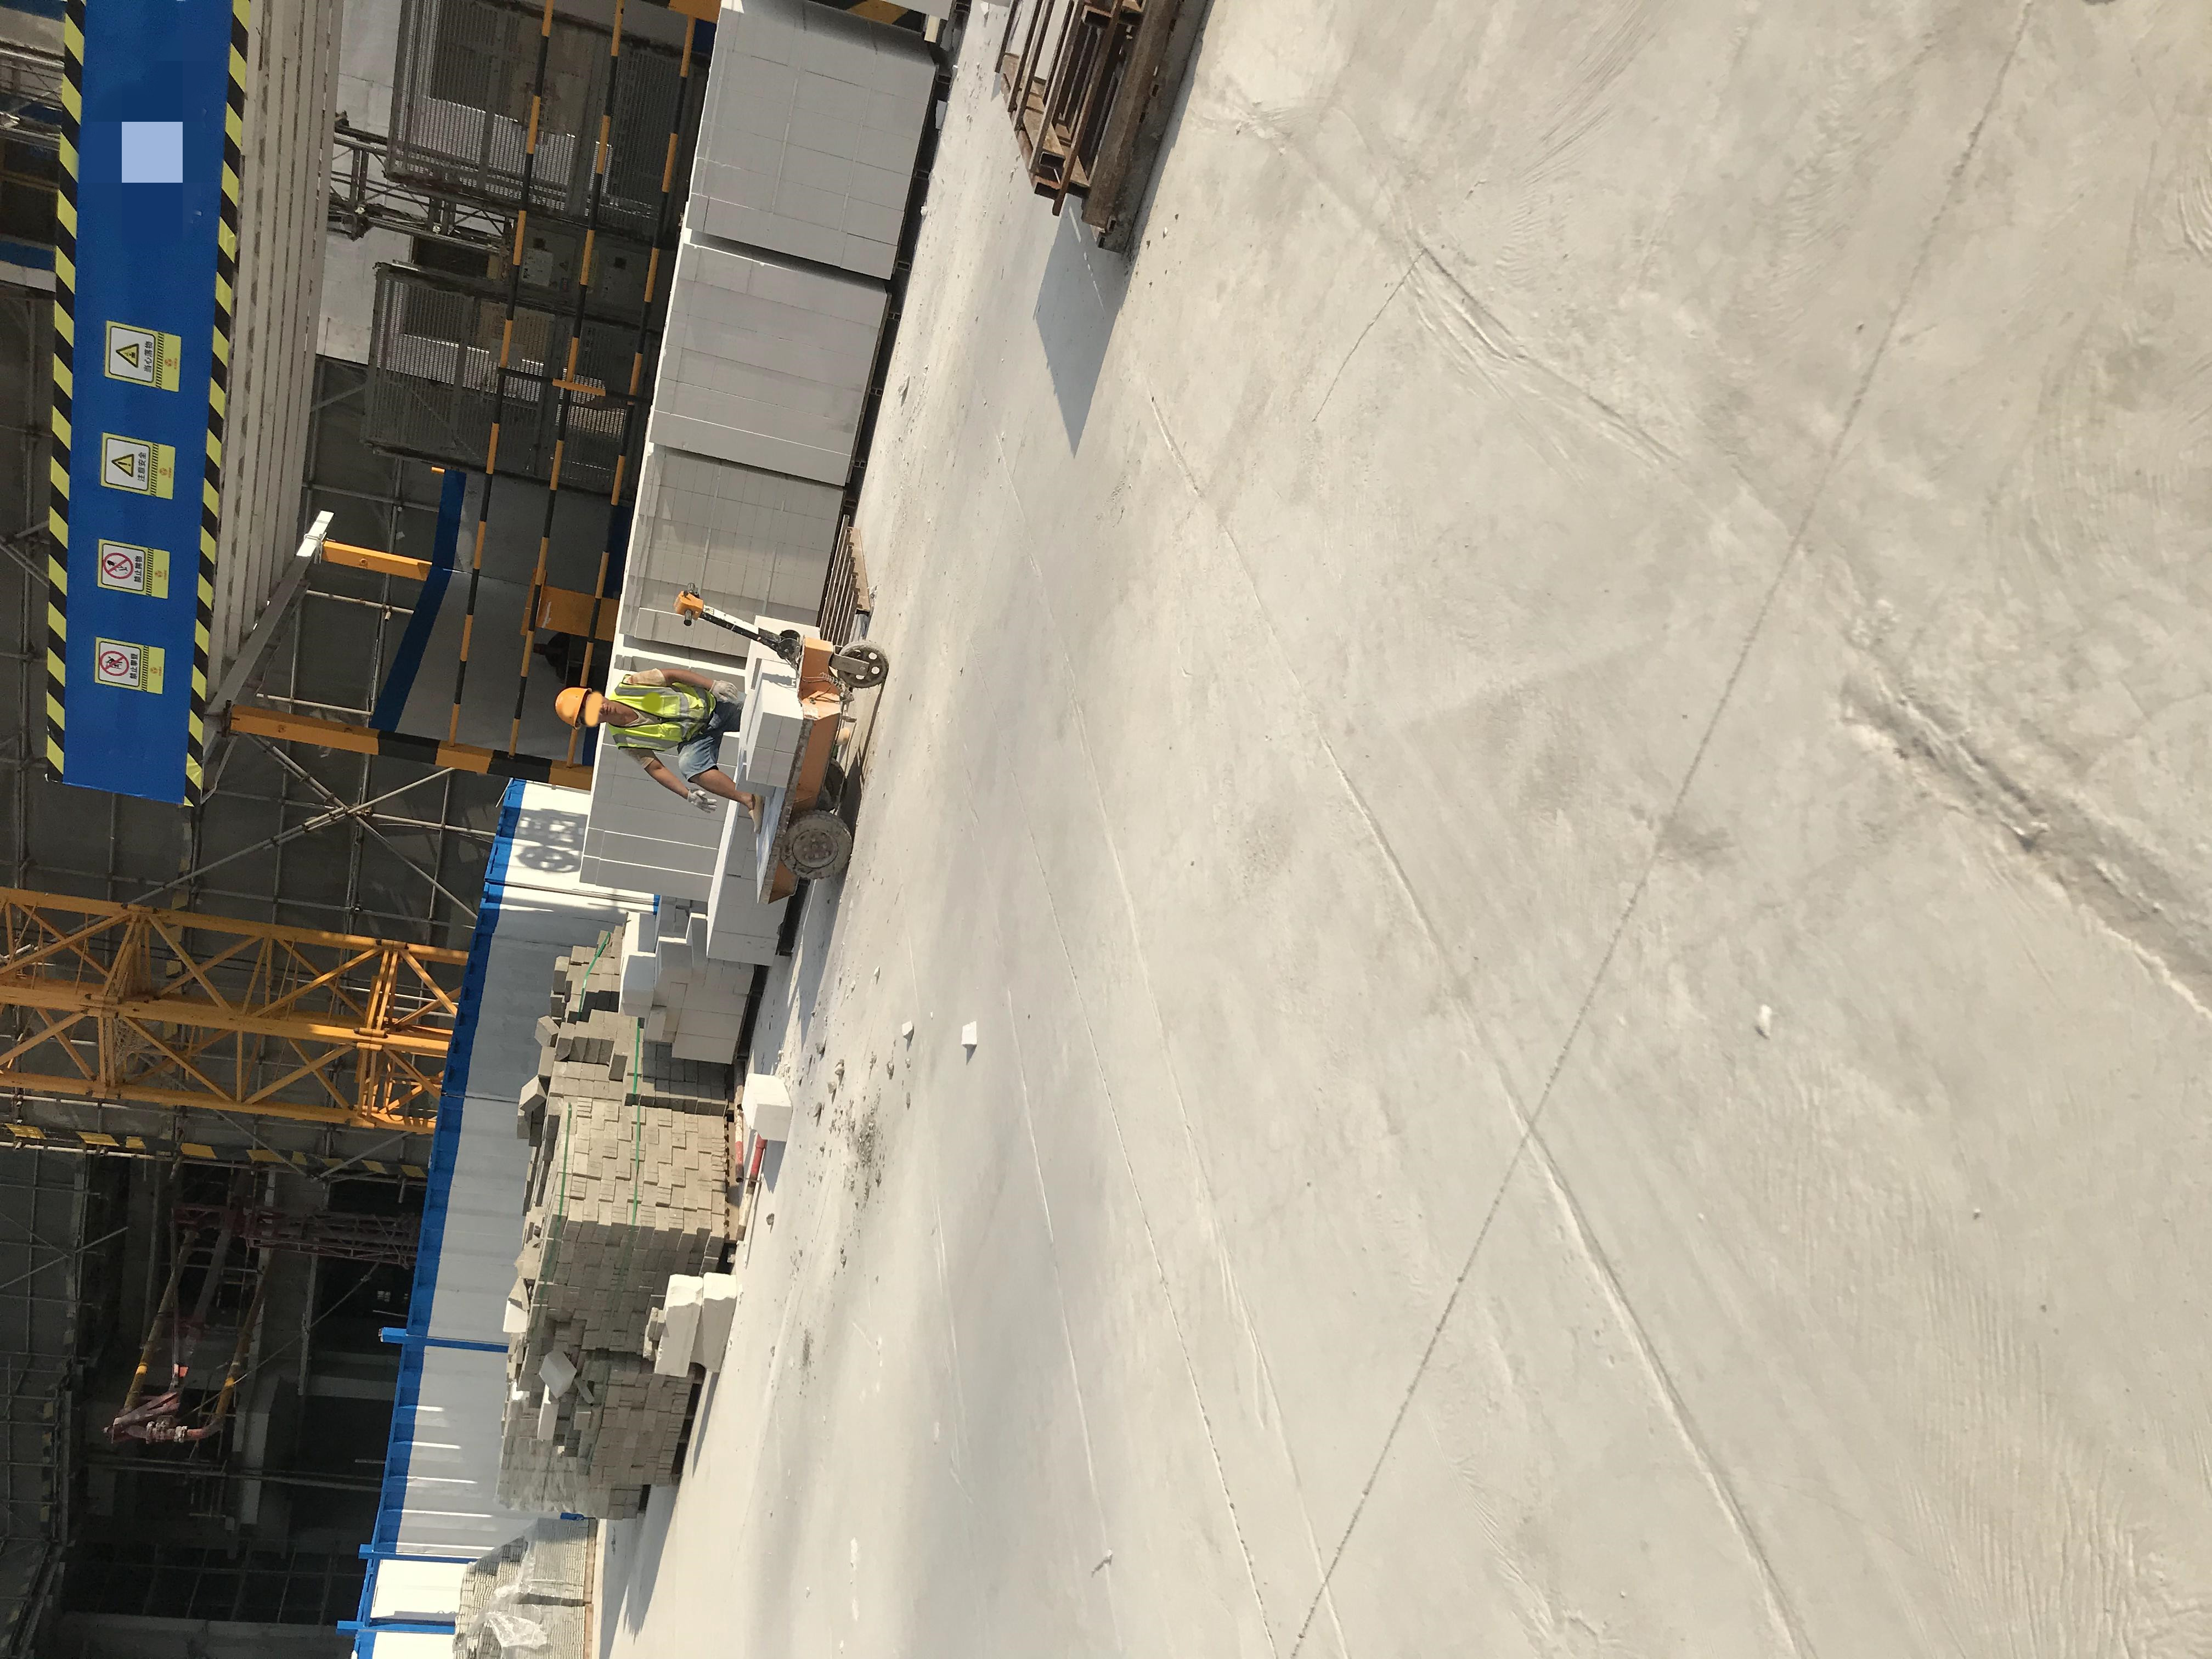brick: (619, 1, 962, 642), (492, 916, 750, 1514)
helmet: (556, 686, 591, 729)
person: (553, 667, 767, 837)
vest: (611, 673, 715, 754)
